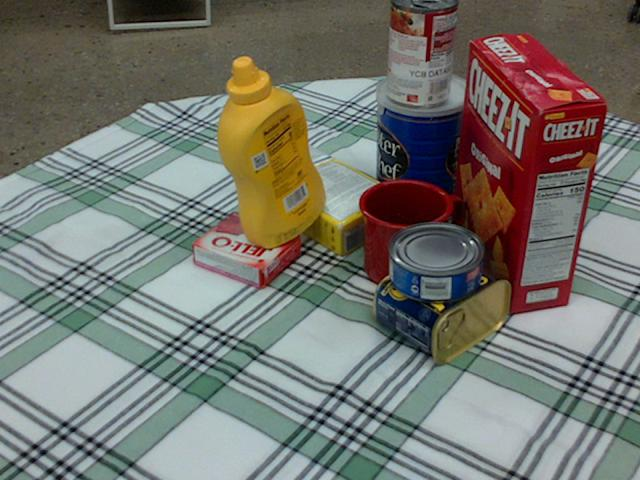cracker_box: (450, 33, 609, 311)
gelatin_box: (192, 213, 302, 290)
master_chef_can: (373, 70, 473, 225)
mug: (359, 179, 464, 291)
mustard_bottle: (217, 56, 324, 248)
potted_meat_can: (376, 243, 514, 360)
sugar_box: (235, 137, 400, 255)
tomato_soup_can: (387, 0, 458, 107)
tuna_fish_can: (388, 223, 484, 302)
